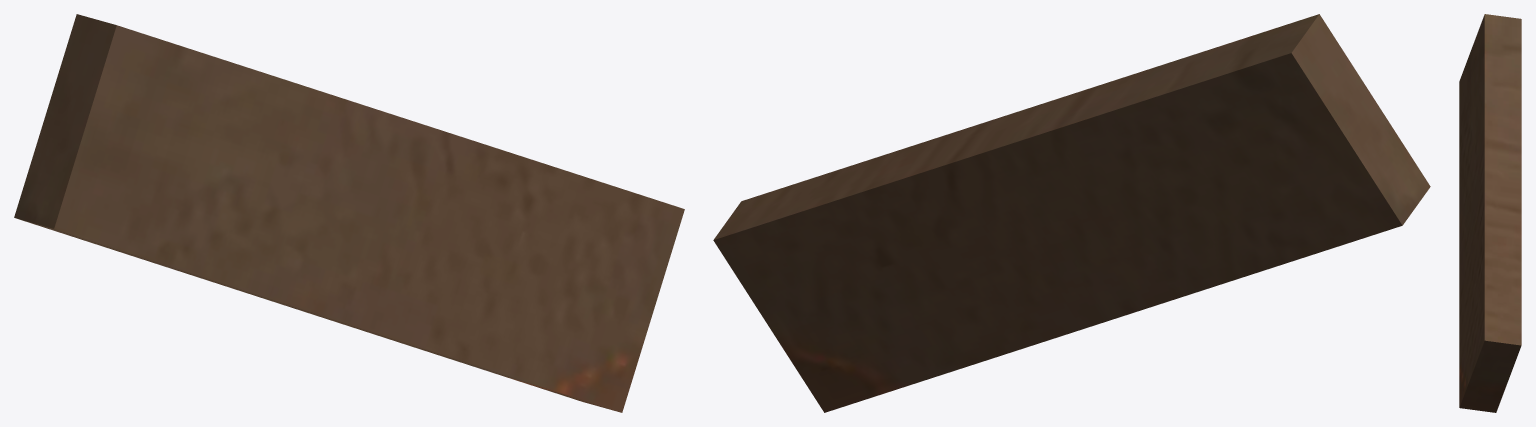
Rendered from fan_right__blade_3.glb.
3 views of the same model, side by side, from view 1: azimuth 30°, elevation 25°; view 2: azimuth 150°, elevation 25°; view 3: azimuth 270°, elevation 25° (orthographic). The views are drawn at different scales.
Visible parts, largest first — view 1: geometry_0; view 2: geometry_0; view 3: geometry_0.
Part boxes in pixels (x1=…): geometry_0: x1=14, y1=14, x2=684, y2=412; geometry_0: x1=713, y1=14, x2=1430, y2=412; geometry_0: x1=1459, y1=14, x2=1521, y2=412.
Size of the model in its own units: 0.0286 by 0.0207 by 0.00428.
Materials: 1 (1 with a texture image).
